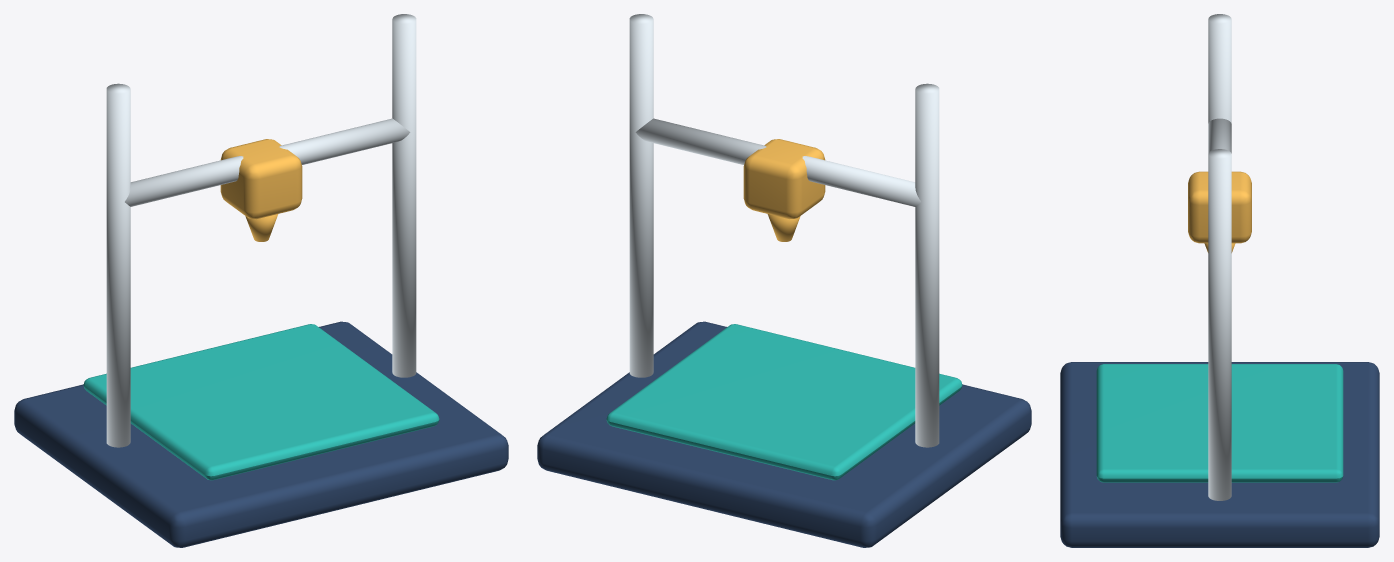
File: three-d-printer-quality.glb
3 renders of one model, left to right at view 1: azimuth 30°, elevation 25°; view 2: azimuth 150°, elevation 25°; view 3: azimuth 270°, elevation 25°, orthographic. The views are drawn at different scales.
Visible parts, largest first — view 1: Printer base; view 2: Printer base; view 3: Printer base.
Boxes of the visible parts, left/top/right/bottom form: Printer base: left=14, top=14, right=508, bottom=547; Printer base: left=537, top=14, right=1031, bottom=547; Printer base: left=1060, top=14, right=1379, bottom=547.
Size of the model in its own units: 1.3 by 1.46 by 1.1.
